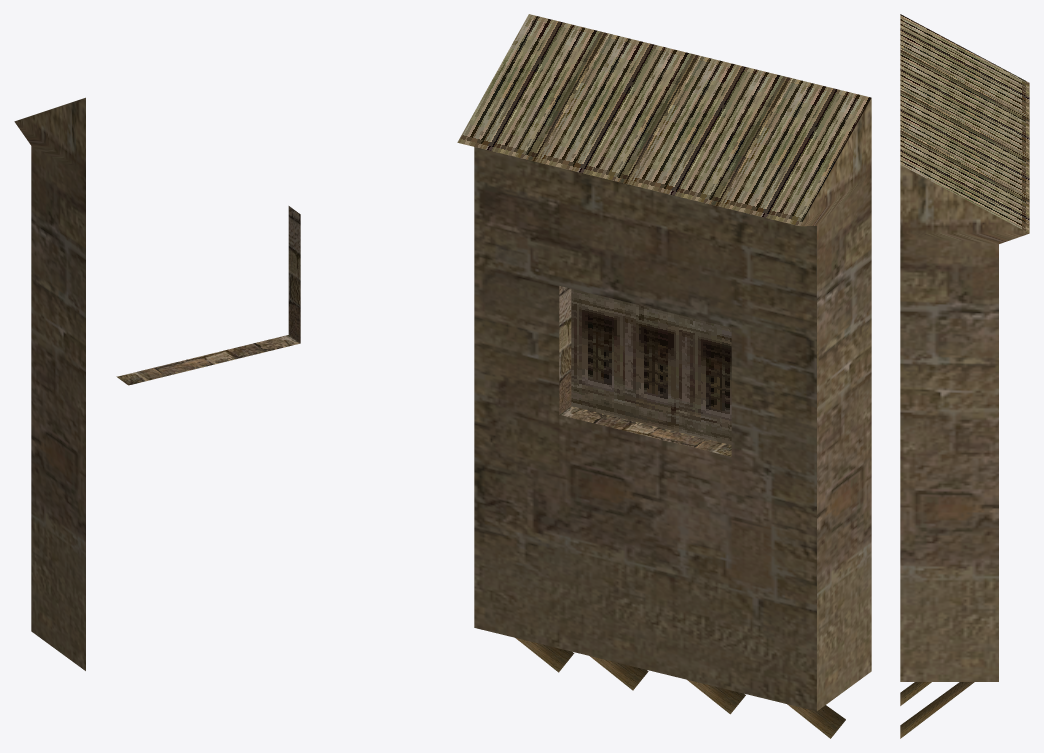
The model's file is M7_WallFeature01.glb.
3 views of the same model, side by side, from view 1: azimuth 30°, elevation 25°; view 2: azimuth 150°, elevation 25°; view 3: azimuth 270°, elevation 25° (orthographic). The views are drawn at different scales.
Visible parts, largest first — view 1: M7_WALLFEATURE01; view 2: M7_WALLFEATURE01; view 3: M7_WALLFEATURE01.
Boxes of the visible parts, x1,y1,x2,y2 form: M7_WALLFEATURE01: (14, 97, 300, 670); M7_WALLFEATURE01: (457, 14, 871, 738); M7_WALLFEATURE01: (900, 14, 1029, 738).
Bounding box in the file's own units: 3.31 × 6.01 × 1.2.
Materials: 5 (5 with a texture image).
